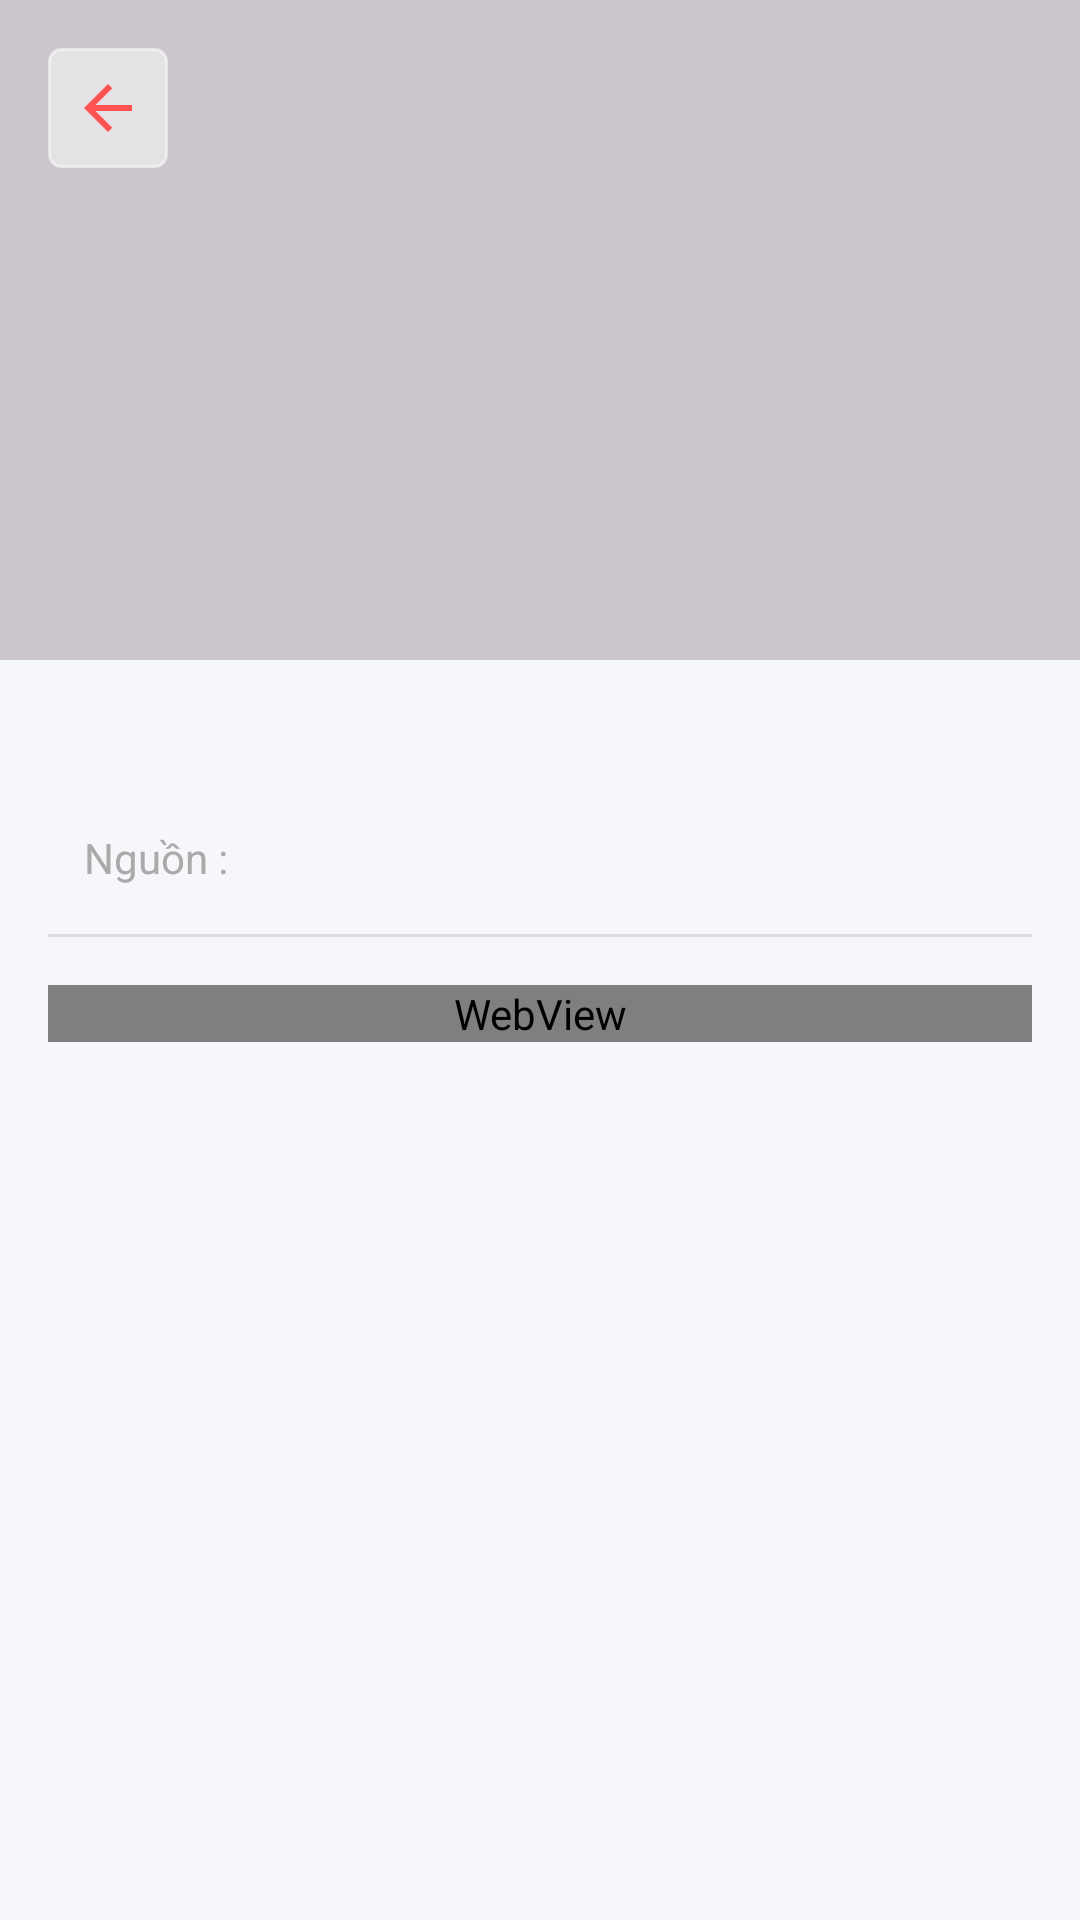

Icon click points for this 1080x1920 phone screenshot, format (x,y):
back: (108,108)
